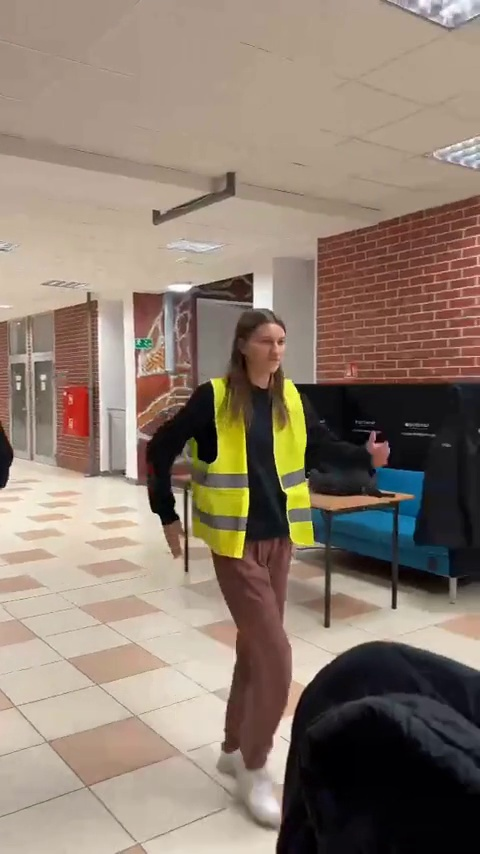vest: (135, 302, 377, 818)
